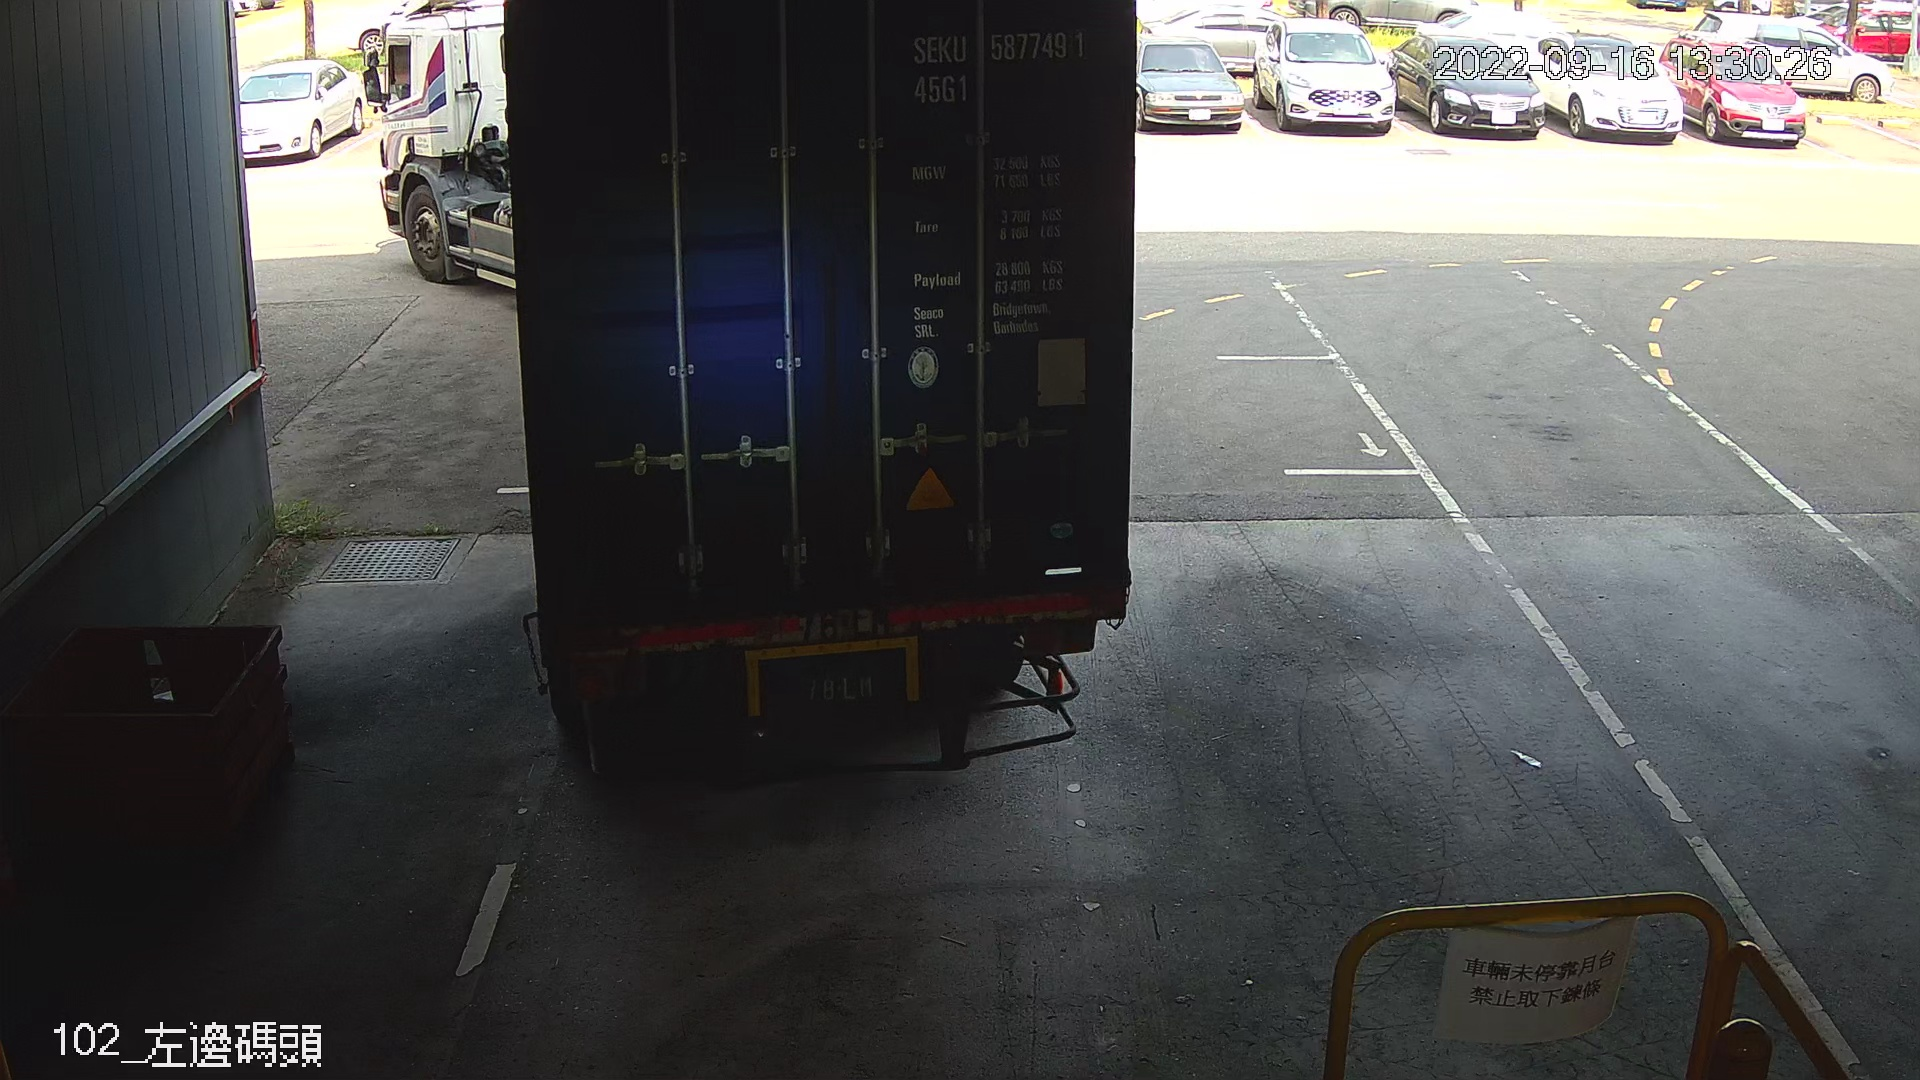container: (901, 26, 1097, 111)
